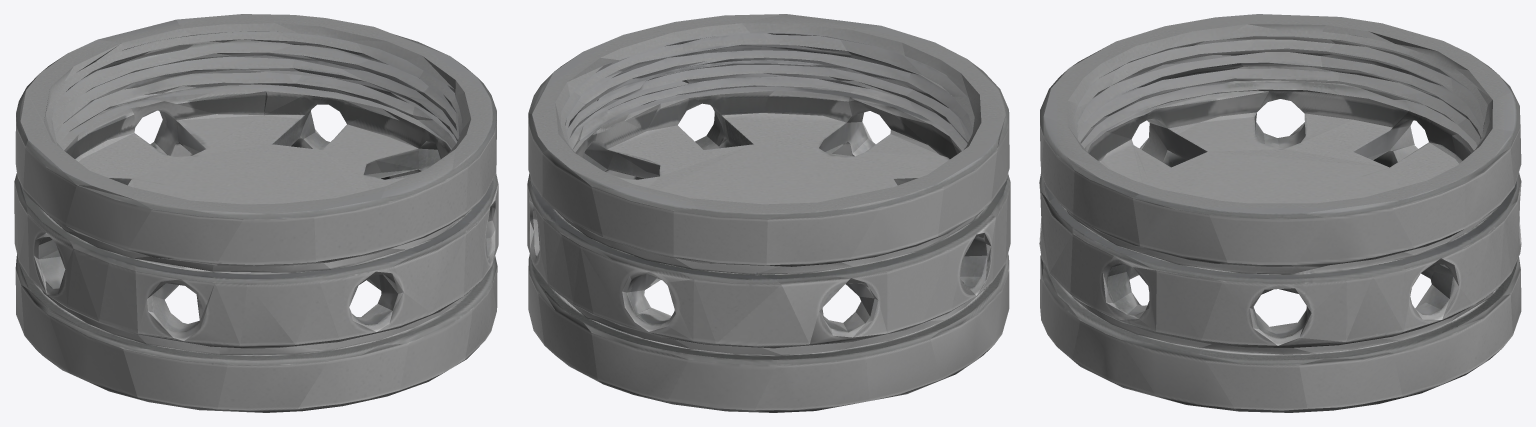
3 views of the same model, side by side, from view 1: azimuth 30°, elevation 25°; view 2: azimuth 150°, elevation 25°; view 3: azimuth 270°, elevation 25° (orthographic).
Parts seen in each view (by area): view 1: Meshy_AI_Metal_Threaded_Ring_0911082757_texture; view 2: Meshy_AI_Metal_Threaded_Ring_0911082757_texture; view 3: Meshy_AI_Metal_Threaded_Ring_0911082757_texture.
Part boxes in pixels (x1,y1,x2,y2): Meshy_AI_Metal_Threaded_Ring_0911082757_texture: [14, 14, 498, 412]; Meshy_AI_Metal_Threaded_Ring_0911082757_texture: [527, 14, 1010, 412]; Meshy_AI_Metal_Threaded_Ring_0911082757_texture: [1039, 14, 1521, 412].
Bounding box in the file's own units: 1.9 × 0.87 × 1.9.
Materials: 1 (1 with a texture image).
